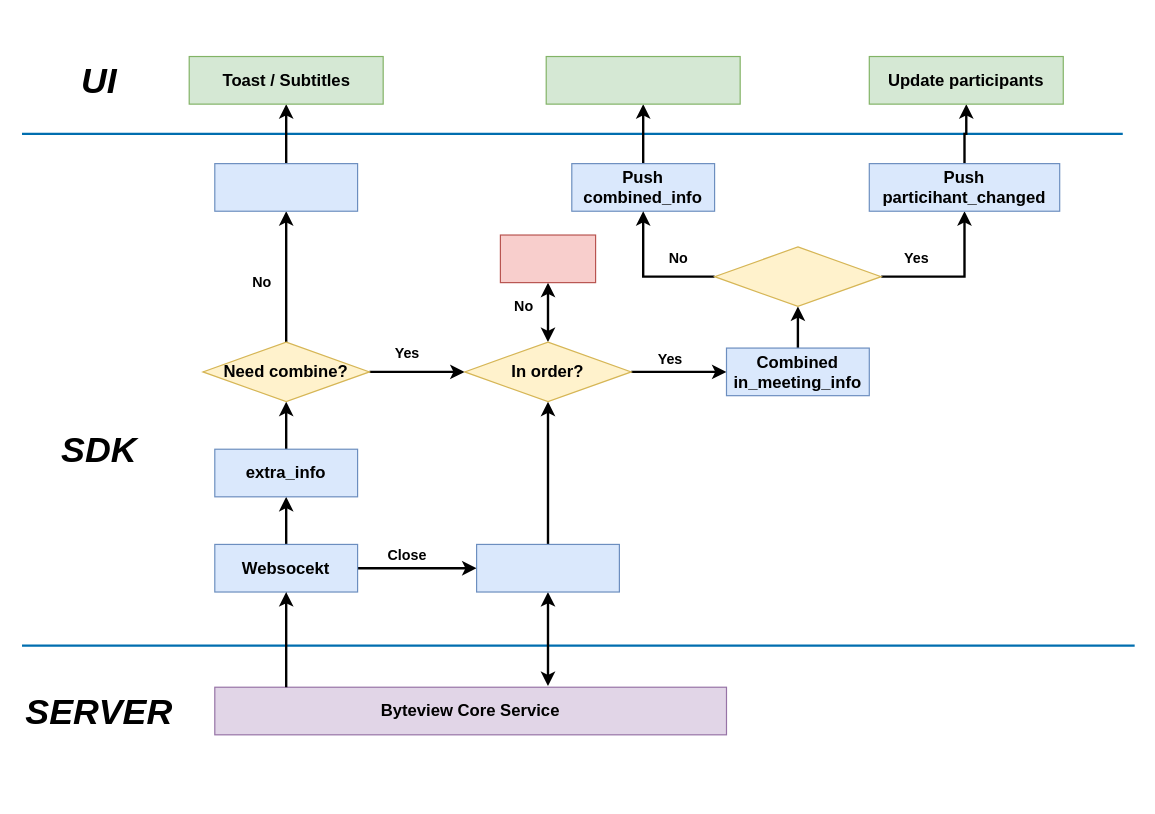
Some shapes in this 1155 by 814 pixel diagram are drawn without their labels. The shapes that lost their labels are listed below. From the top down, each one's centre as x and y in pixels, then its label:
At (642,79): "Update in_meeting_info".
At (286,186): "Push extra_info".
At (547,258): "Drop".
At (797,276): "Only participant changed?".
At (547,567): "Poll in_meeting_info".
